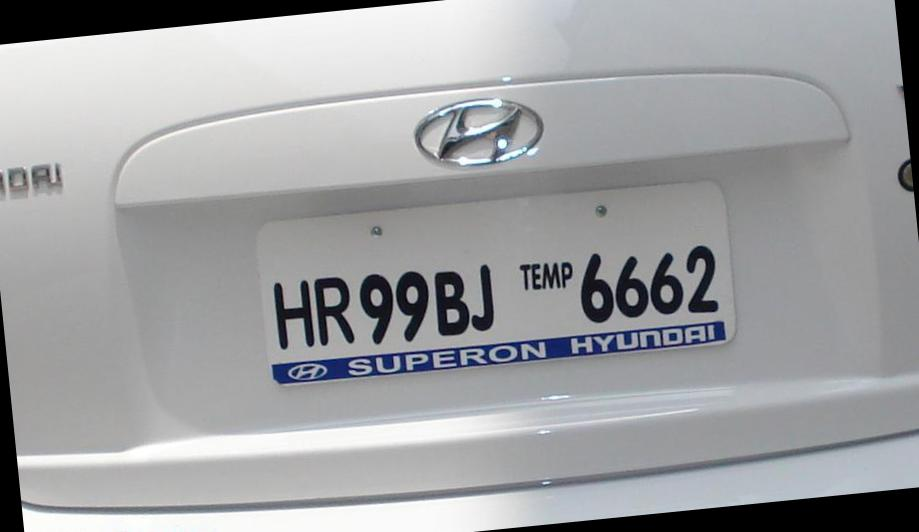plate: (255, 162, 753, 411)
